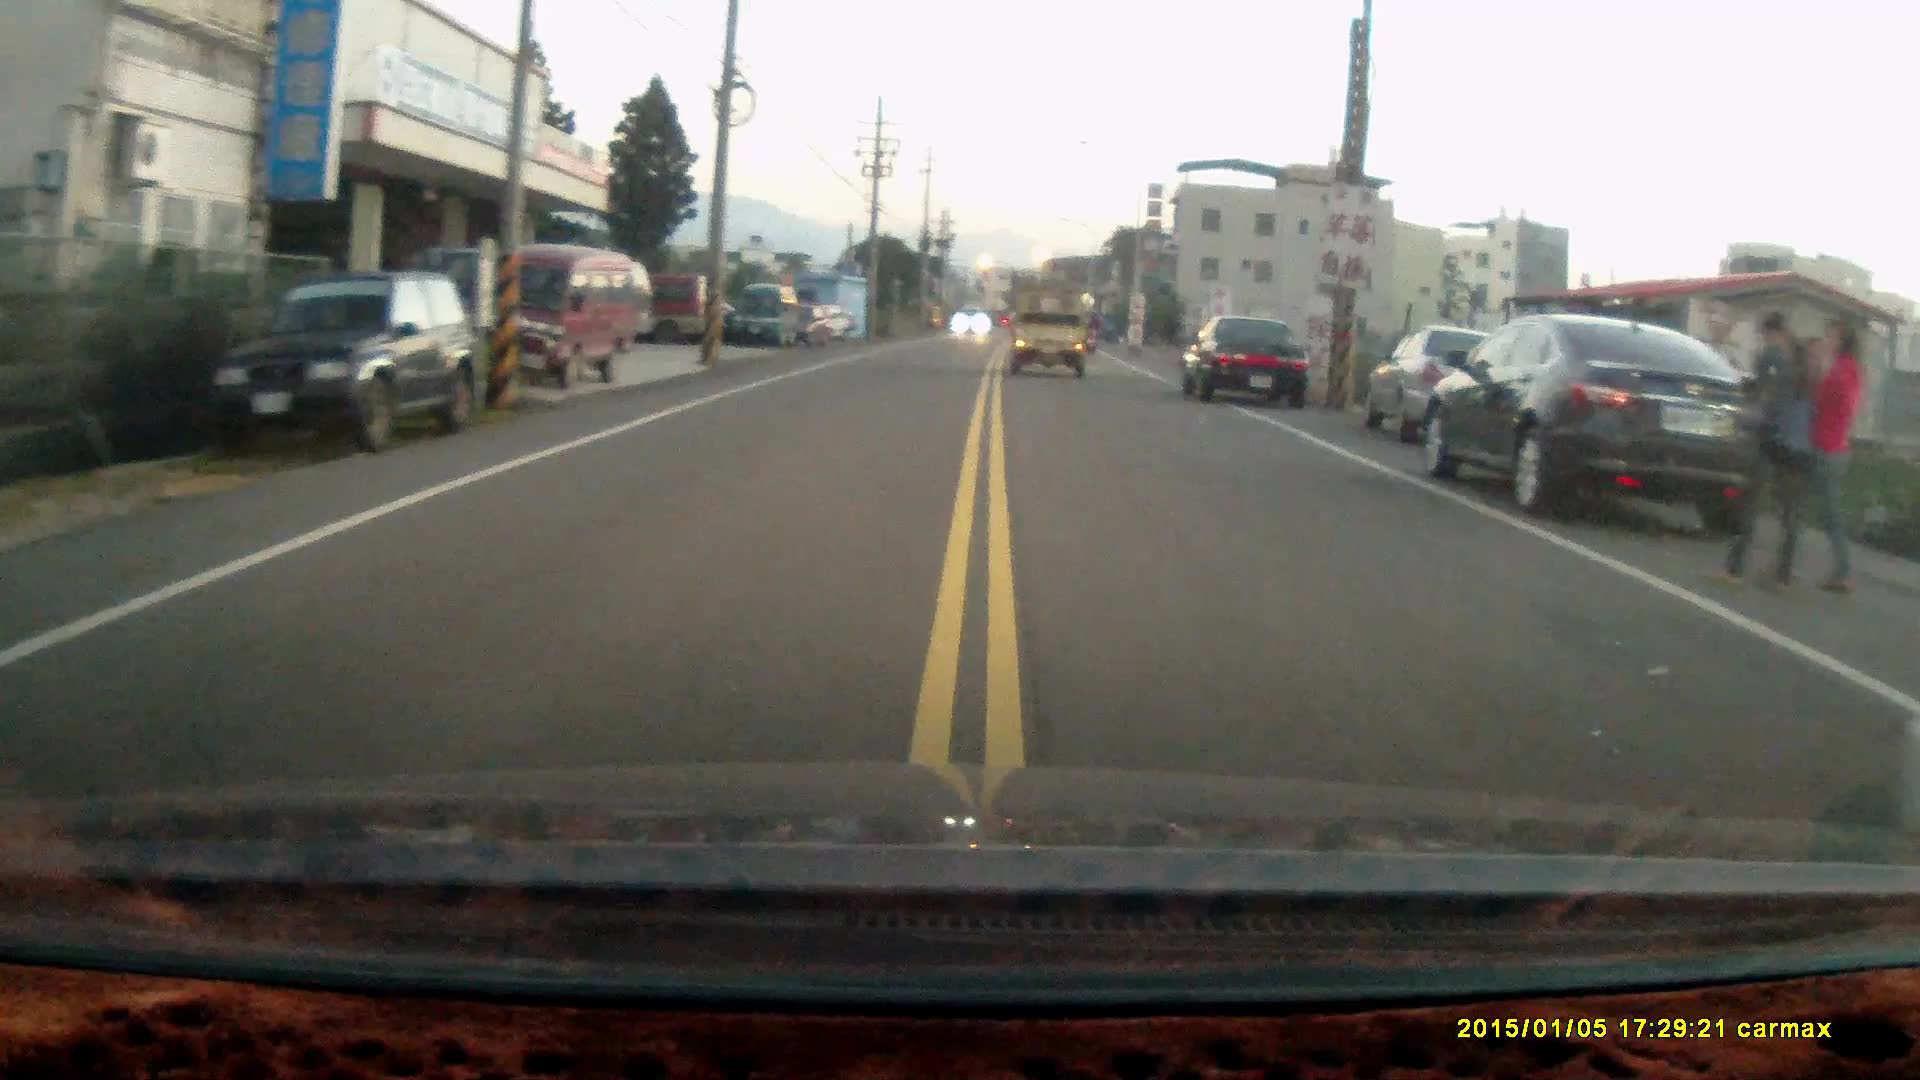pedestrian: (1713, 308, 1812, 591), (1787, 316, 1865, 596)
vehicle: (1421, 317, 1798, 536), (218, 265, 484, 457), (465, 247, 650, 383), (1359, 329, 1511, 448), (1176, 309, 1312, 409), (1010, 291, 1093, 379), (729, 283, 802, 349)
